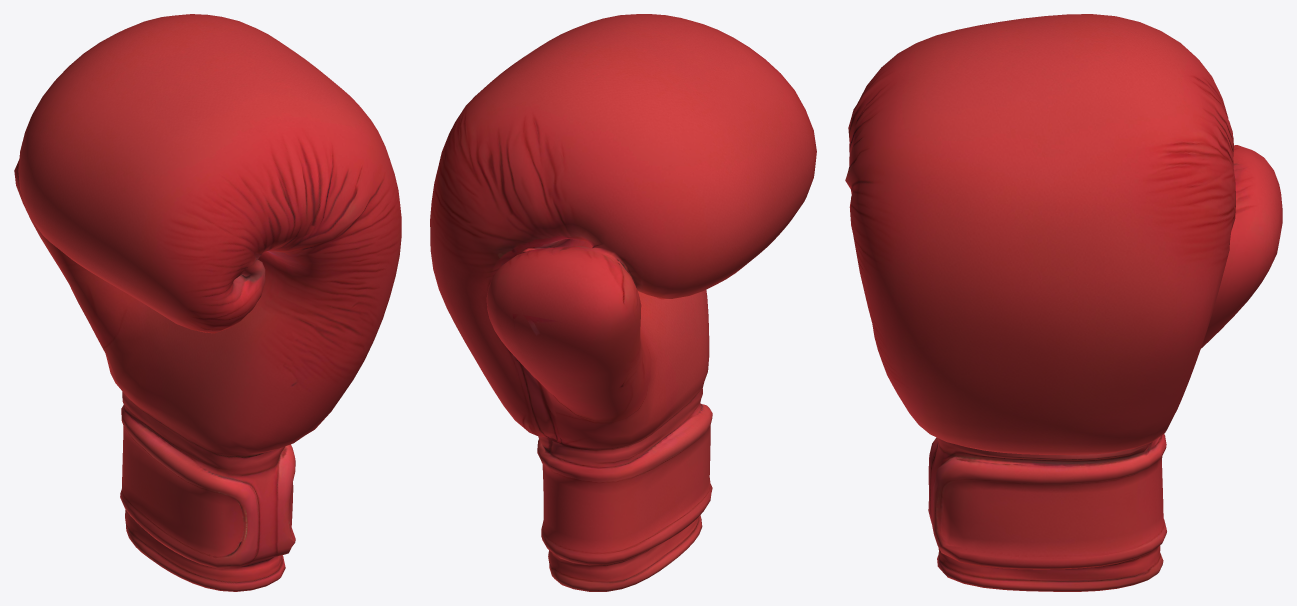
Rendered from Boxing glove.fbx.
3 views of the same model, side by side, from view 1: azimuth 30°, elevation 25°; view 2: azimuth 150°, elevation 25°; view 3: azimuth 270°, elevation 25° (orthographic). The views are drawn at different scales.
Parts seen in each view (by area): view 1: tripo_node_8e4fc555; view 2: tripo_node_8e4fc555; view 3: tripo_node_8e4fc555.
Boxes of the visible parts, <box> form: tripo_node_8e4fc555: <box>14,14,401,591</box>; tripo_node_8e4fc555: <box>430,14,816,591</box>; tripo_node_8e4fc555: <box>845,14,1282,591</box>.
Size of the model in its own units: 61.6 by 99.97 by 73.29.
1 material, 1 textured.
